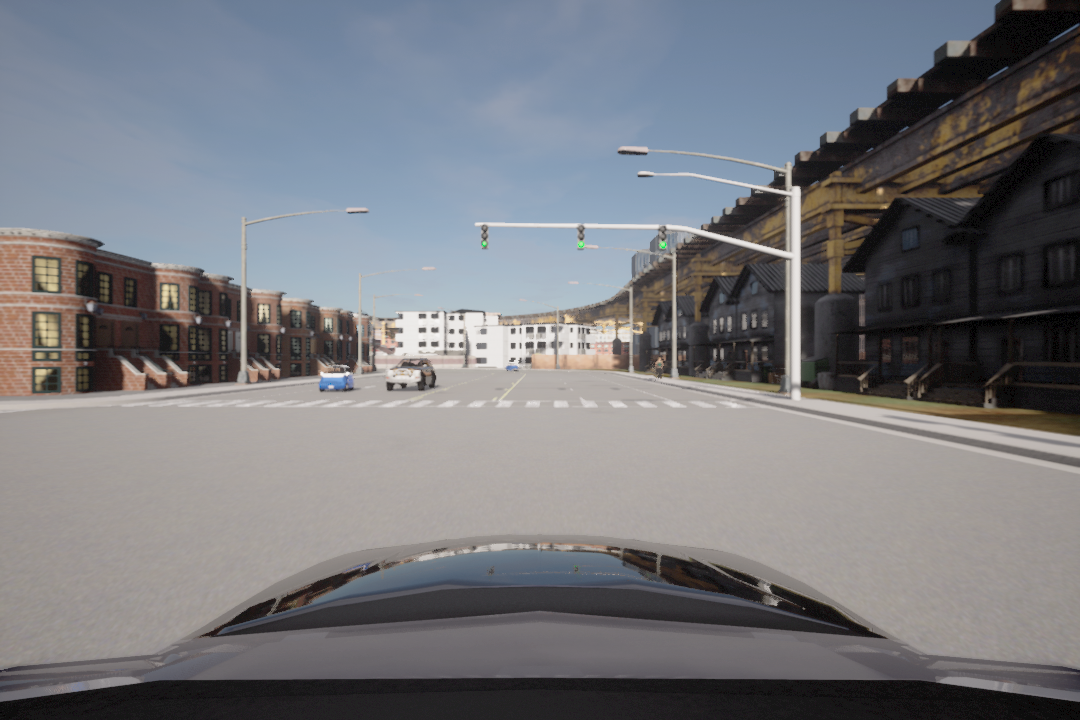TrafficLight: (657, 220, 671, 253), (576, 221, 587, 252), (481, 222, 492, 252)
walkside: (137, 397, 742, 411)
